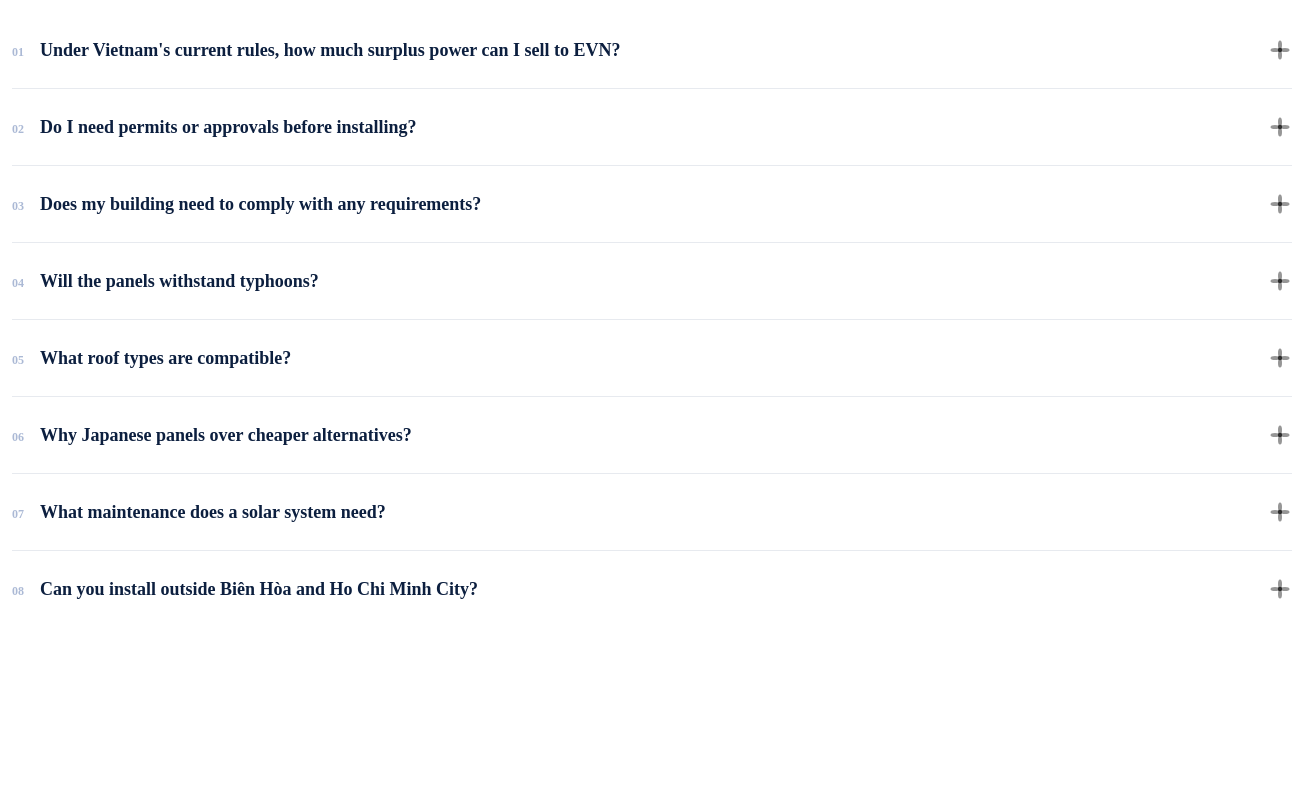
Test: PricingFAQ › expands a question on click (aria-expanded becomes true)
The width and height of the screenshot is (1304, 812).
Click the 1st button at (330, 50), box x1=12 y1=12 x2=1292 y2=88
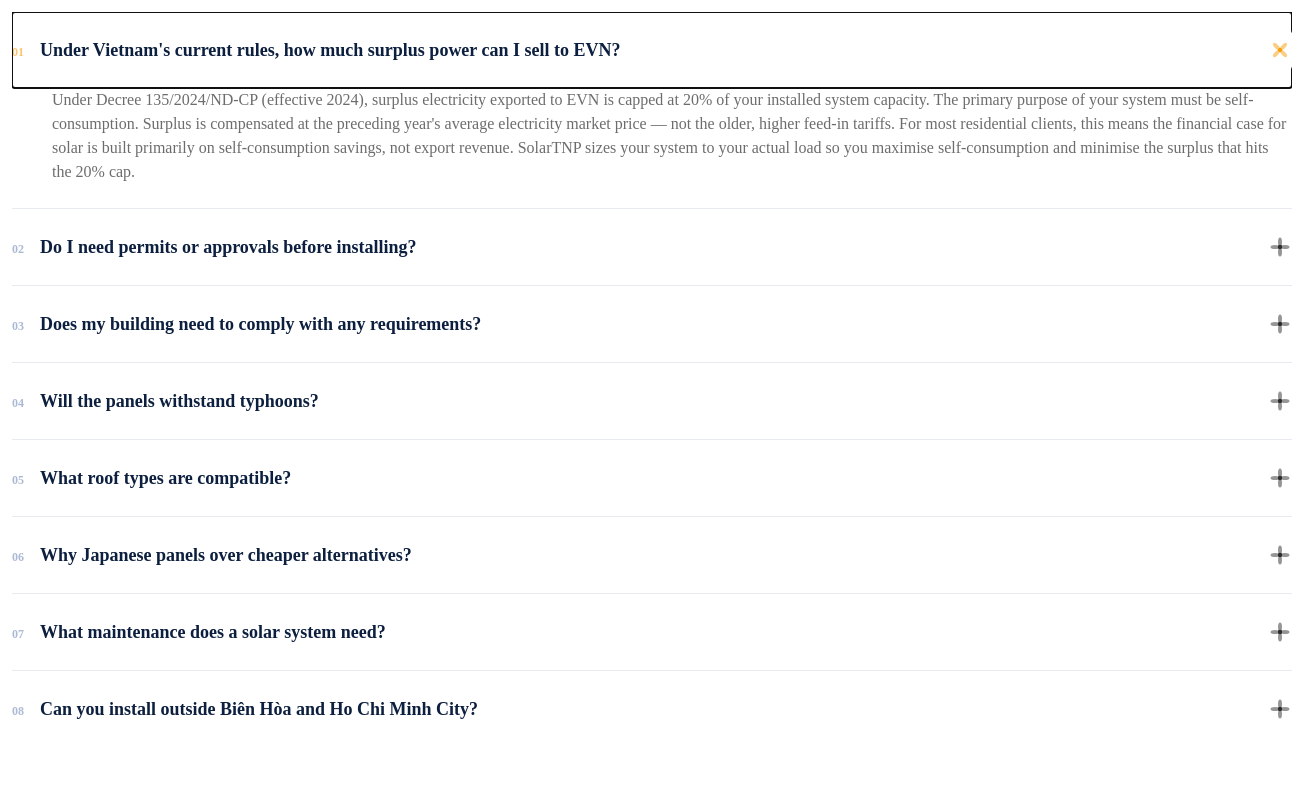
Expected: the 1st button is expanded, x1=12 y1=12 x2=1292 y2=88
